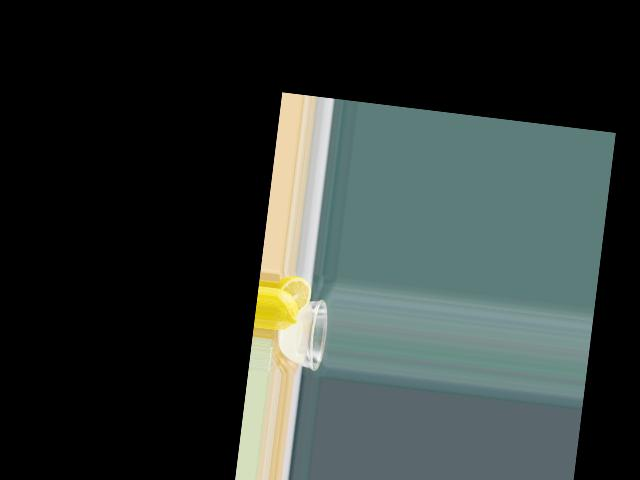lemon: (272, 276, 313, 333)
